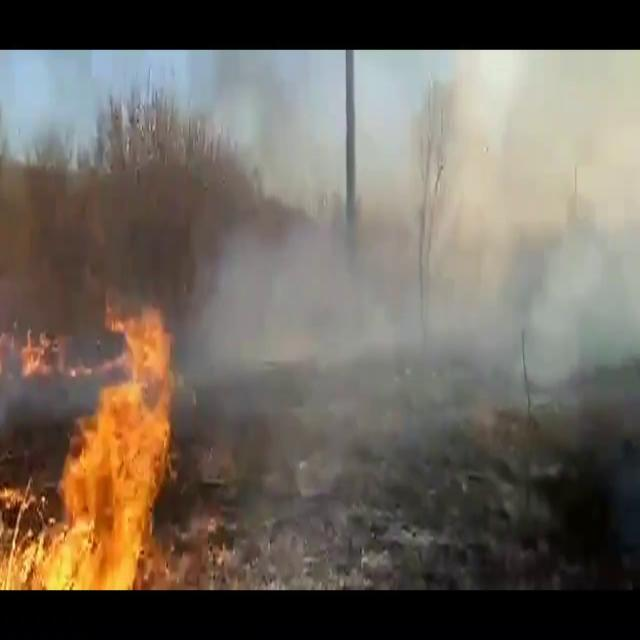Fire: (1, 292, 185, 587)
Smoke: (156, 56, 640, 538)
